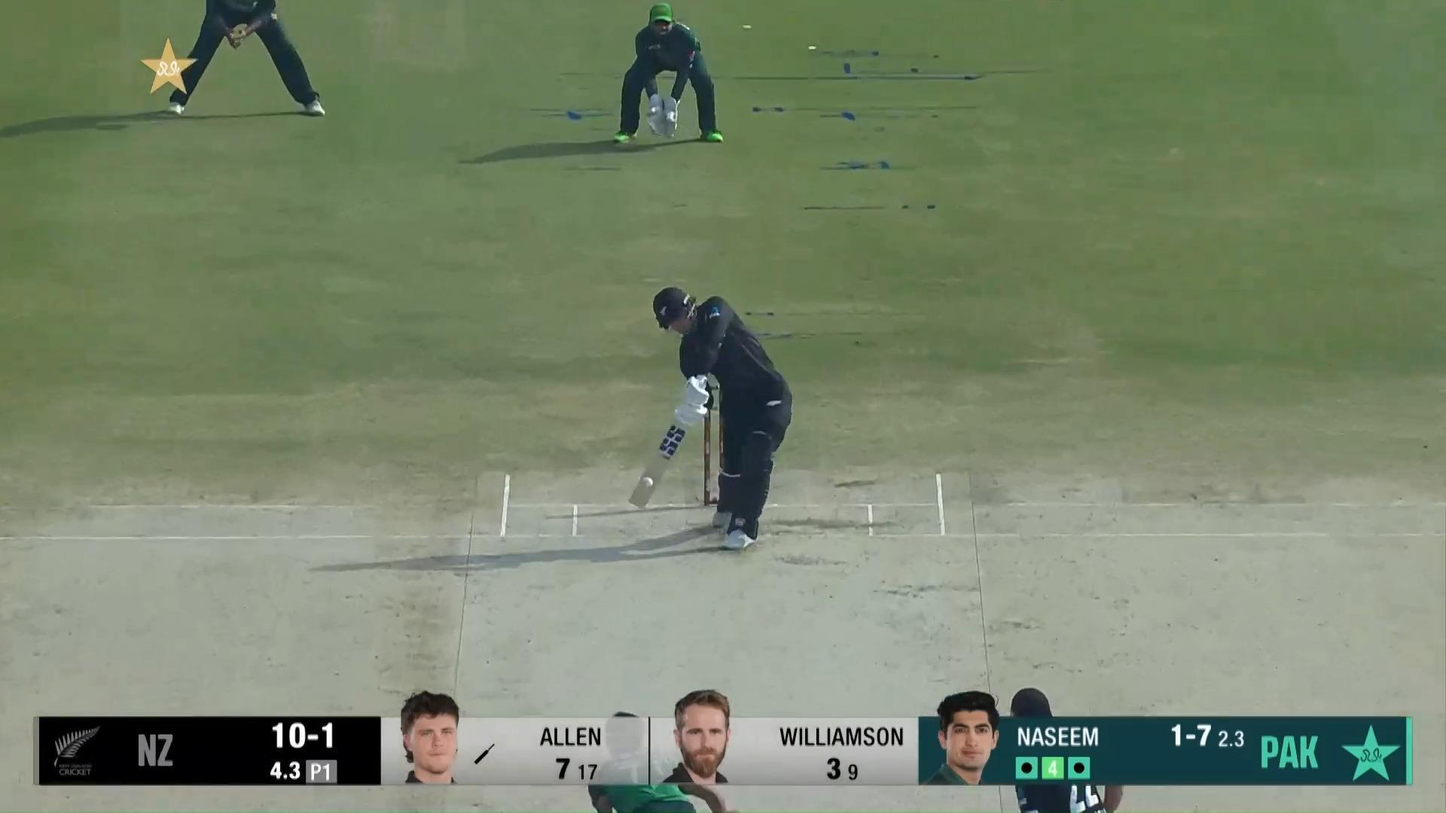BM 1: (628, 286, 792, 549)
BO: (587, 711, 727, 813)
